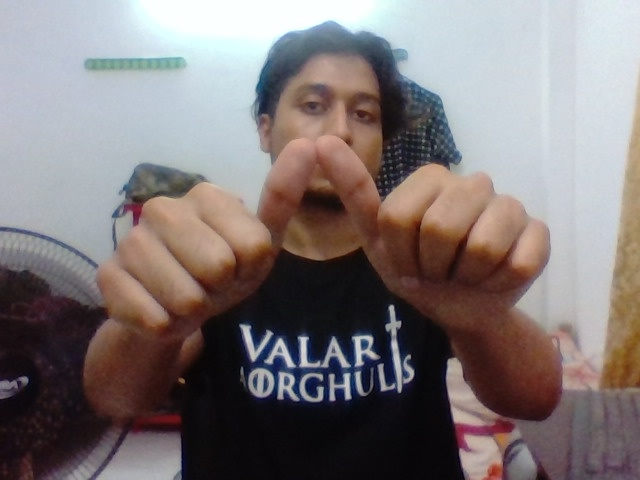A: (83, 124, 582, 335)
